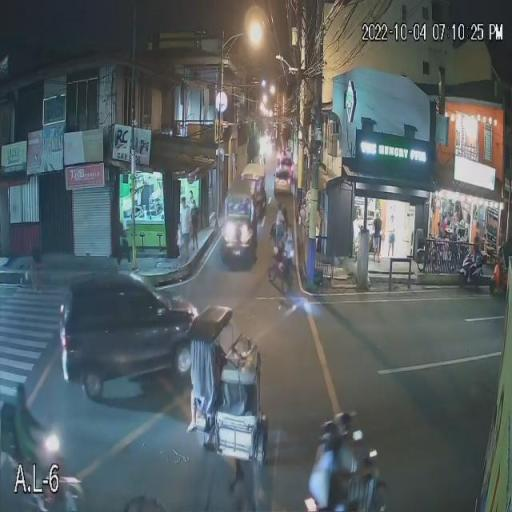helmet: (335, 408, 364, 442), (315, 415, 342, 450)
motorcycle: (300, 433, 394, 512)
rider: (308, 446, 380, 512), (334, 440, 376, 512)
